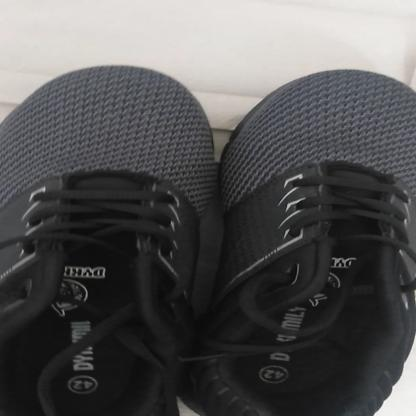safety-shoe: (1, 63, 416, 416)
